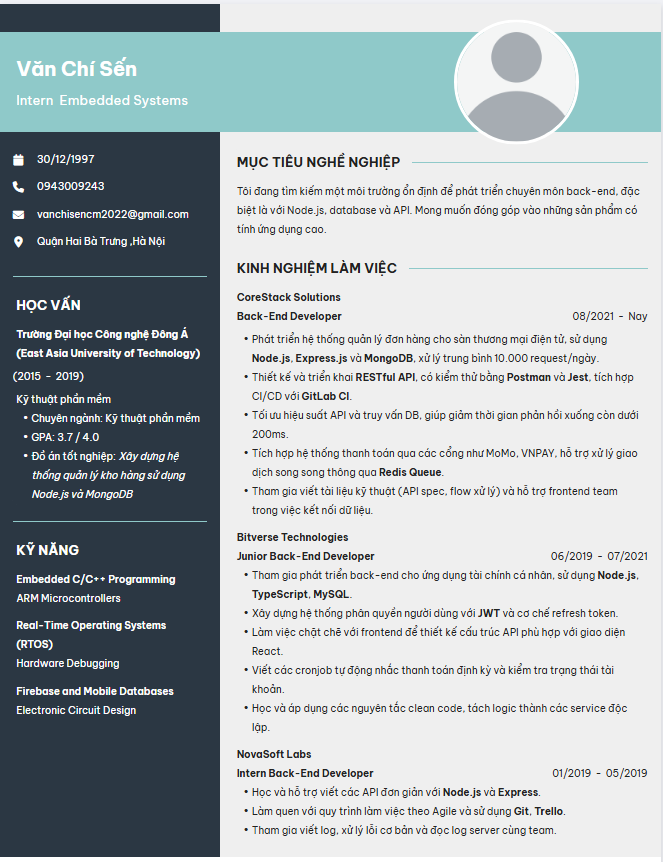address: (10, 229, 170, 259)
gpa: (20, 430, 105, 447)
level: (10, 83, 55, 112)
position: (56, 88, 197, 111)
skill: (14, 537, 197, 754)
